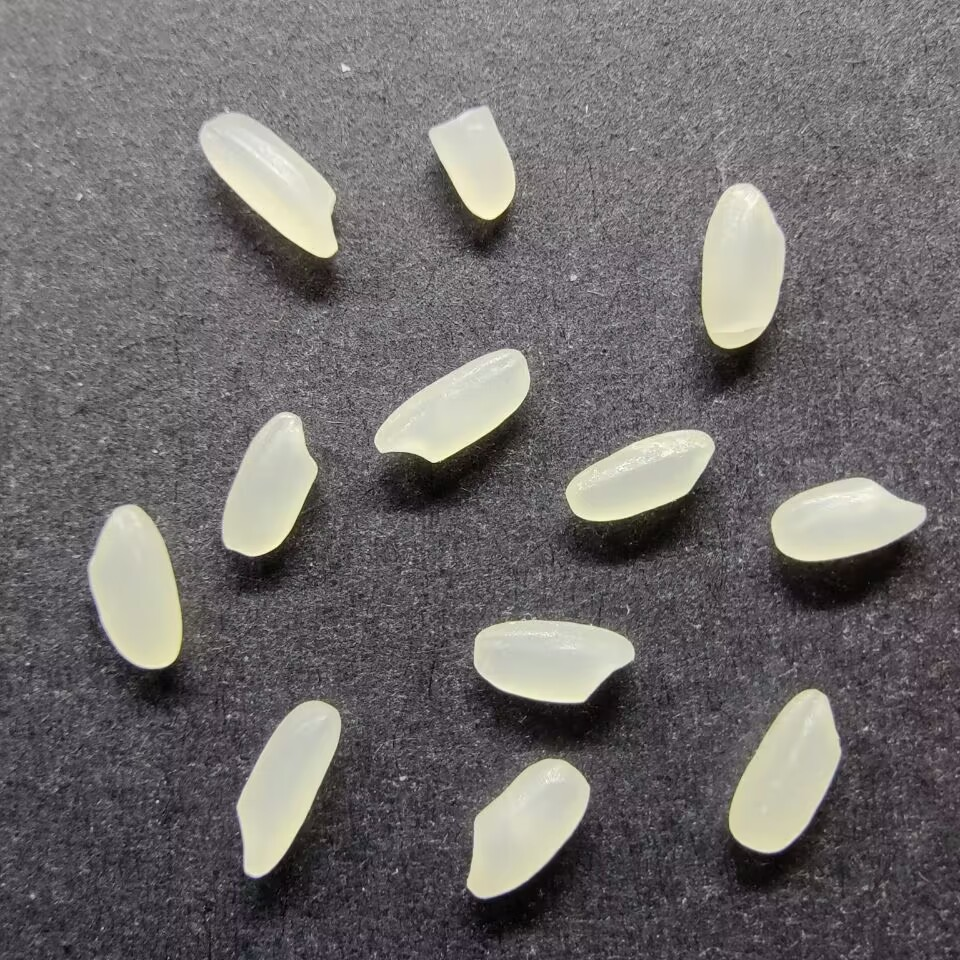broken: (427, 103, 519, 221)
rice: (197, 112, 338, 260), (231, 697, 342, 879), (726, 686, 844, 856), (372, 346, 532, 465), (465, 758, 594, 901), (83, 502, 182, 670), (563, 427, 718, 523), (699, 180, 786, 350), (220, 409, 318, 558), (471, 618, 637, 705), (770, 475, 931, 562)
